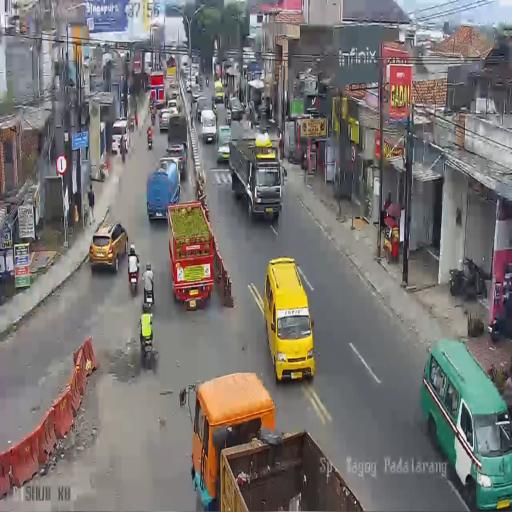car: (419, 340, 511, 508), (192, 371, 278, 512), (264, 256, 316, 380), (89, 220, 128, 272), (112, 117, 132, 155), (200, 109, 216, 142), (216, 125, 230, 161), (228, 96, 244, 123), (159, 108, 174, 133), (214, 79, 225, 104), (192, 86, 203, 106), (190, 64, 200, 86), (167, 96, 179, 114), (186, 80, 192, 94)
motorcycle: (128, 254, 140, 294), (146, 130, 152, 150), (150, 108, 155, 125), (198, 75, 203, 89), (206, 76, 209, 87)
truck: (167, 200, 216, 308), (228, 130, 282, 224), (158, 154, 184, 184), (148, 70, 166, 108)
